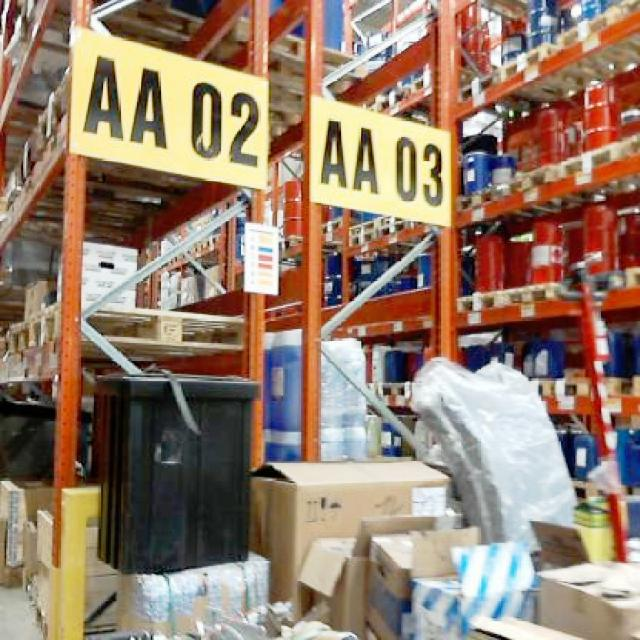pallet: (445, 0, 638, 566), (460, 611, 638, 638)
